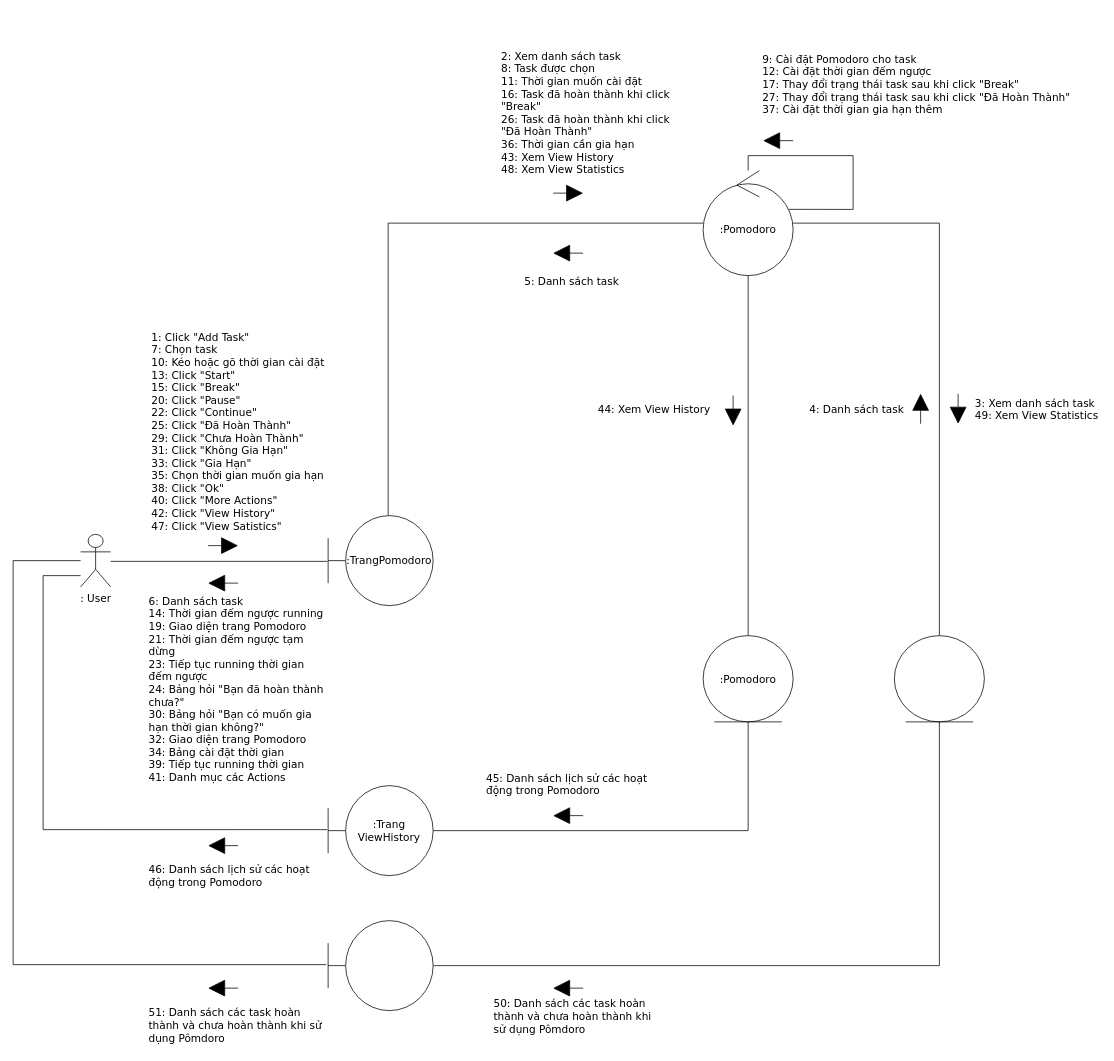
Some shapes in this 1114 by 1061 pixel diagram are drawn without their labels. Each missing label, with the centre of its shape:
:Task: point (939, 678)
:Trang ViewStatistics: point (380, 965)
